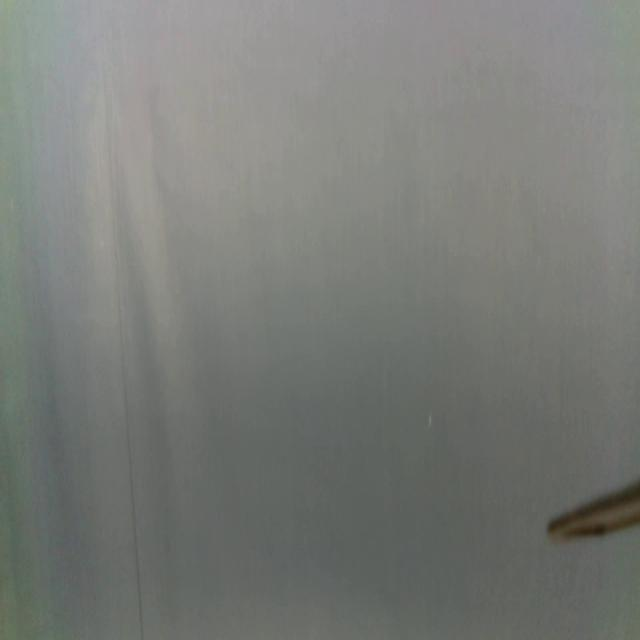crease: (98, 13, 143, 640)
hole: (428, 406, 433, 428)
